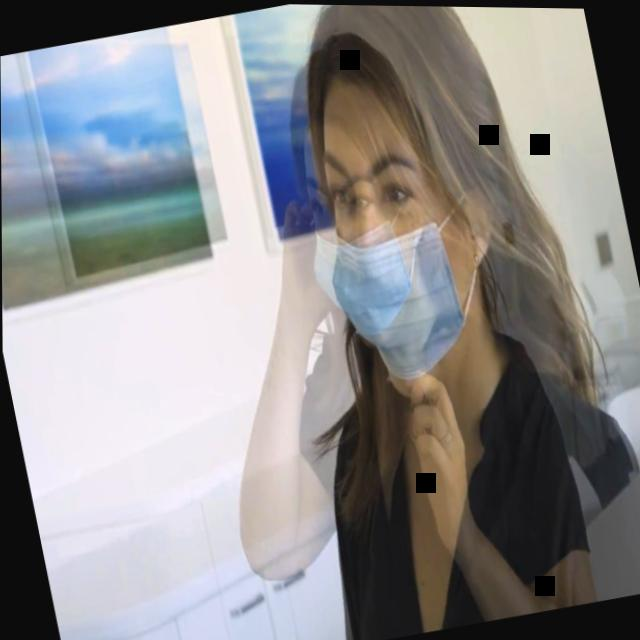Mask: (294, 43, 507, 412)
